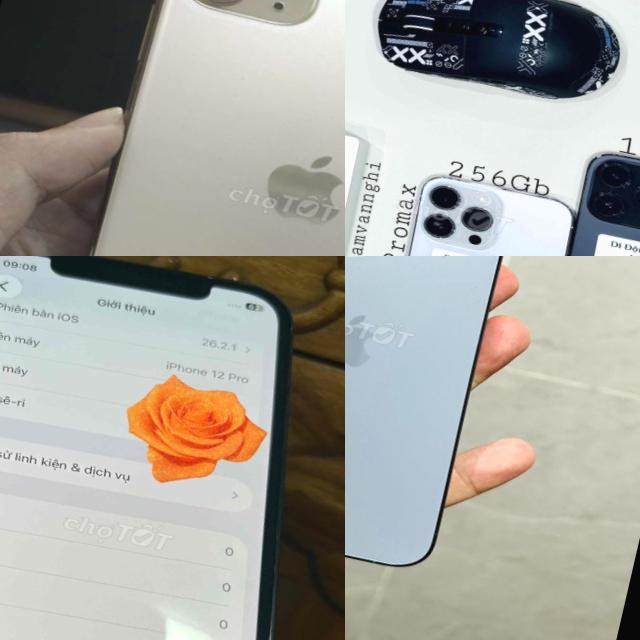gen_11: (21, 0, 345, 256)
gen_12_13: (0, 256, 345, 640), (345, 256, 542, 588)
gen_14: (354, 163, 590, 256)
